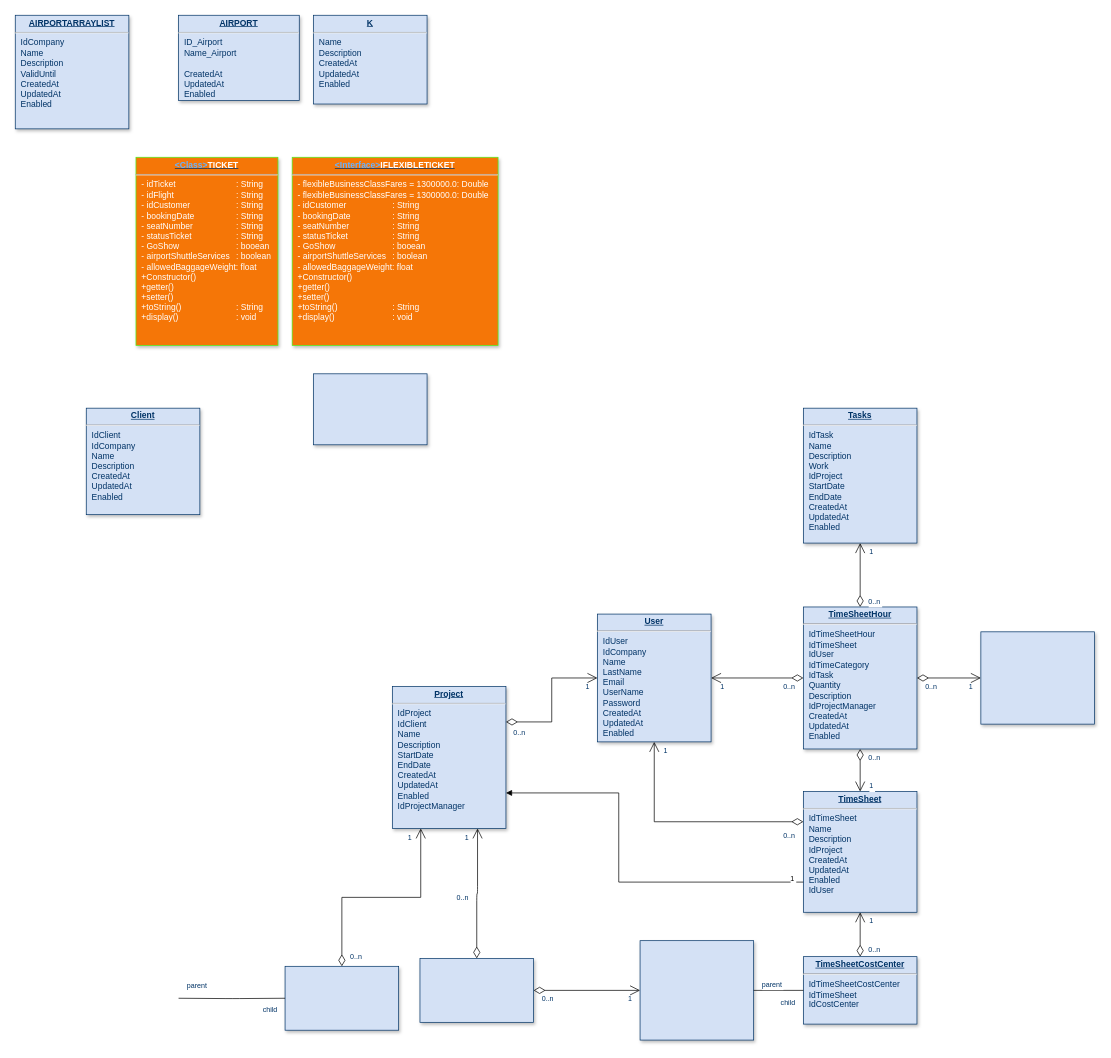
This 1111x1058 diagram has some shape labels left out. The centre of each missing label's shape, as x and y in pixels:
CostCenter IdCostCenter Name Description CreatedAt UpdatedAt Enabled: the point at 697,991
ProjectCostCenter IdProjectCostCenter IdProject IdCostCenter: the point at 477,991
ProjectDocument IdProjectDocument IdProject IdDocument: the point at 342,999
TimeCategory IdTimeCategory Name Description CreatedAt UpdatedAt Enabled: the point at 1038,678
UserProjectRole IdUserProjectRole IdRole IdProject IdUser: the point at 370,410
